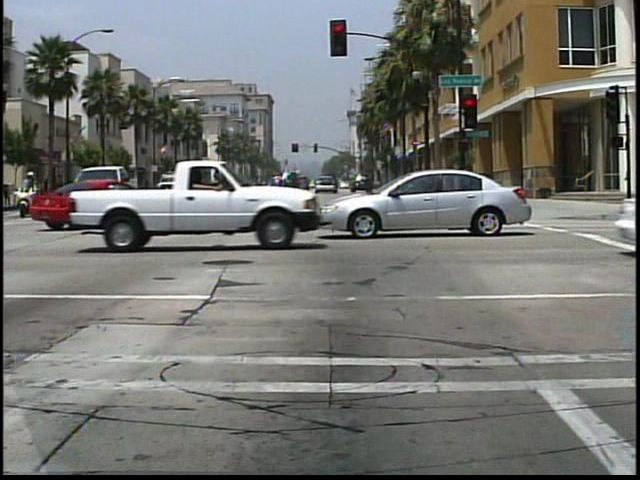person: (16, 169, 47, 220)
